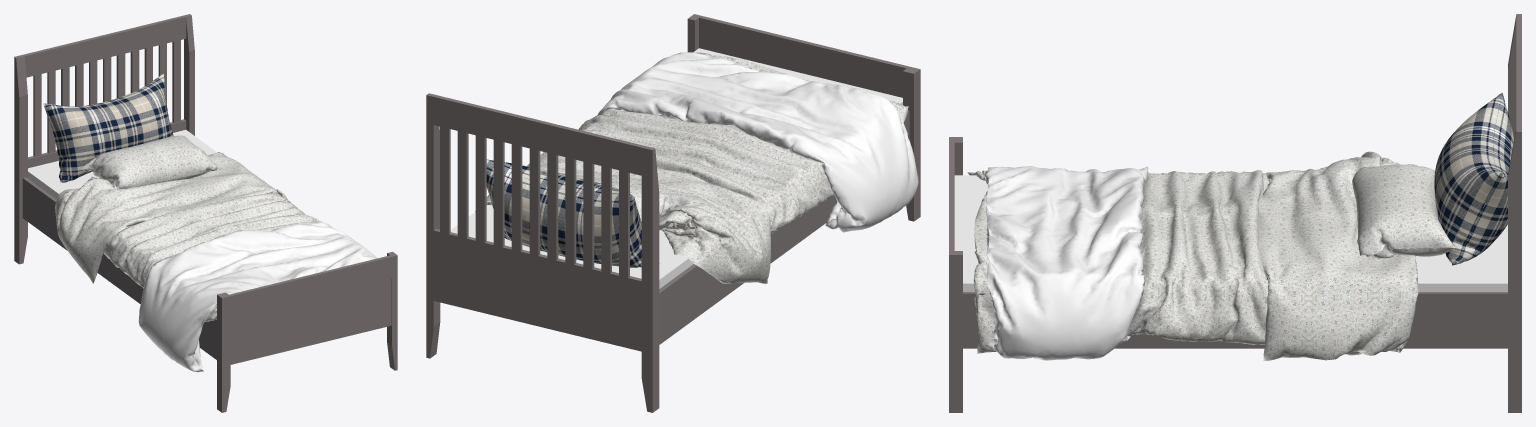
File: single_bed.glb
3 renders of one model, left to right at view 1: azimuth 30°, elevation 25°; view 2: azimuth 150°, elevation 25°; view 3: azimuth 270°, elevation 25°, orthographic. The views are drawn at different scales.
Parts seen in each view (by area): view 1: Mesh2_FrontColor_0, Pattern2D_48610_FABRIC 1_FRONT_2336_0, Pattern2D_62964_FABRIC 2_FRONT_2343_0, Pattern2D_58615_FABRIC 3_FRONT_2348_0, Mesh1_FrontColor_0, Mesh21_Color_M03_0; view 2: Mesh2_FrontColor_0, Pattern2D_62964_FABRIC 2_FRONT_2343_0, Pattern2D_48610_FABRIC 1_FRONT_2336_0, Pattern2D_58615_FABRIC 3_FRONT_2348_0, Mesh1_FrontColor_0, Mesh21_Color_M03_0; view 3: Pattern2D_48610_FABRIC 1_FRONT_2336_0, Pattern2D_62964_FABRIC 2_FRONT_2343_0, Mesh2_FrontColor_0, Pattern2D_58615_FABRIC 3_FRONT_2348_0, Mesh21_Color_M03_0.
Boxes of the visible parts, box(x1,y1,x2,y2) form: Mesh2_FrontColor_0: box(14, 14, 397, 412); Pattern2D_48610_FABRIC 1_FRONT_2336_0: box(55, 135, 322, 321); Pattern2D_62964_FABRIC 2_FRONT_2343_0: box(138, 222, 377, 372); Pattern2D_58615_FABRIC 3_FRONT_2348_0: box(43, 73, 173, 182); Mesh1_FrontColor_0: box(22, 177, 216, 359); Mesh21_Color_M03_0: box(28, 130, 216, 199); Mesh2_FrontColor_0: box(426, 14, 920, 412); Pattern2D_62964_FABRIC 2_FRONT_2343_0: box(597, 52, 918, 232); Pattern2D_48610_FABRIC 1_FRONT_2336_0: box(475, 52, 908, 283); Pattern2D_58615_FABRIC 3_FRONT_2348_0: box(486, 159, 659, 267); Mesh1_FrontColor_0: box(659, 110, 909, 344); Mesh21_Color_M03_0: box(450, 48, 902, 288); Pattern2D_48610_FABRIC 1_FRONT_2336_0: box(967, 151, 1454, 360); Pattern2D_62964_FABRIC 2_FRONT_2343_0: box(985, 166, 1148, 360); Mesh2_FrontColor_0: box(949, 14, 1521, 412); Pattern2D_58615_FABRIC 3_FRONT_2348_0: box(1434, 92, 1513, 265); Mesh21_Color_M03_0: box(954, 175, 1507, 291).
Bounding box in the file's own units: 1.26 × 1.12 × 2.07.
6 materials, 2 textured.
